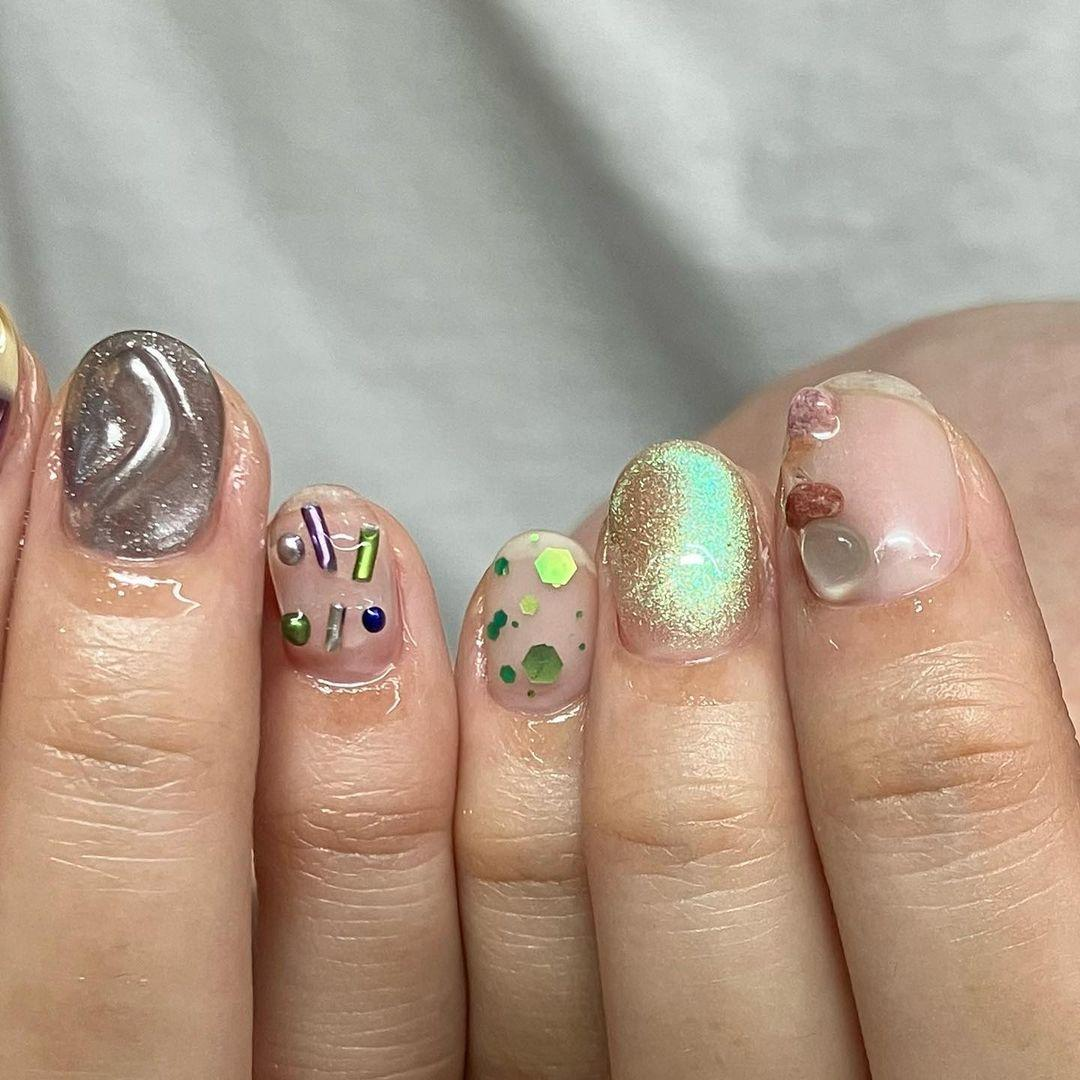nail: (775, 369, 968, 606), (57, 327, 226, 561), (600, 437, 764, 665), (265, 490, 400, 681), (480, 528, 598, 716)
